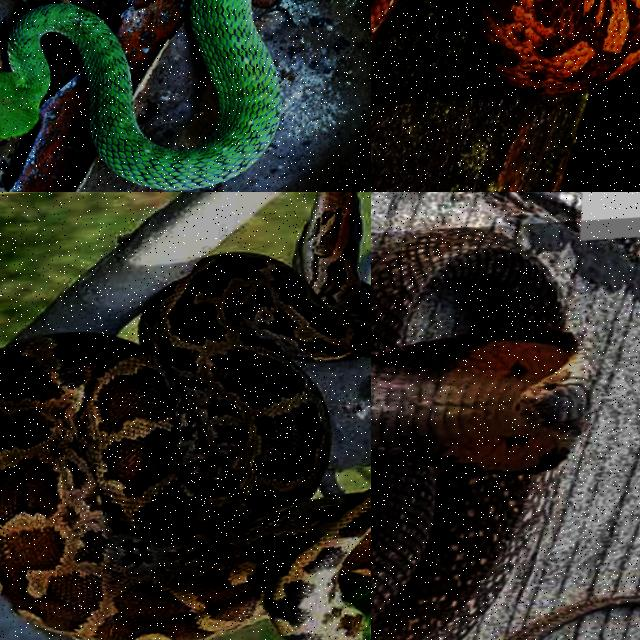Naja kaouthia: (371, 227, 590, 639)
Ovophis monticola: (473, 0, 639, 94)
Python bivittatus: (0, 192, 370, 639)
Trimeresurus: (0, 0, 279, 189)
snake: (0, 192, 370, 639), (371, 227, 590, 639), (0, 0, 279, 189), (473, 0, 639, 94)
